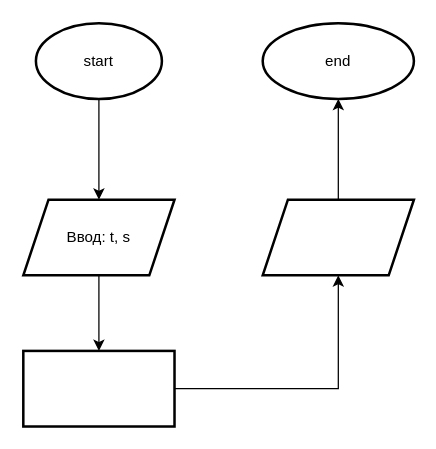
Image size: 436x449. Some labels were removed from this diagram. The shapes that lost their labels are listed below. From the top down, each one's centre as x and y in pixels, then its label:
At point 338,237: "вывод: a".
At point 98,388: "a=2s/t^2".
